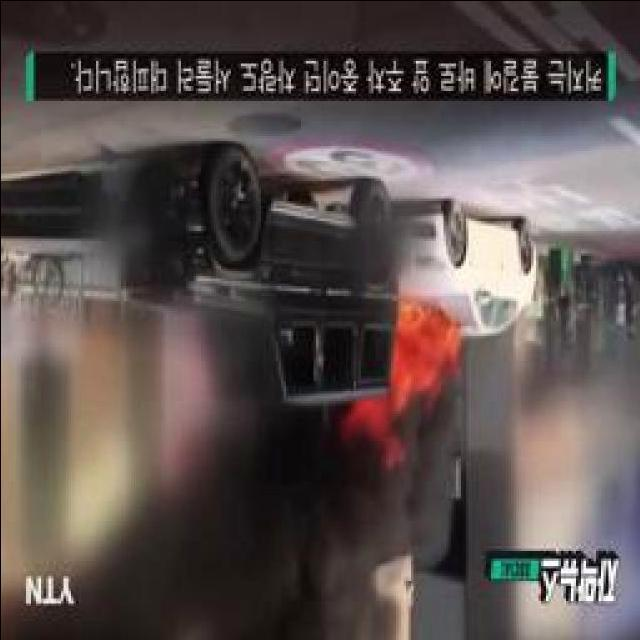Fire: (390, 306, 444, 408)
